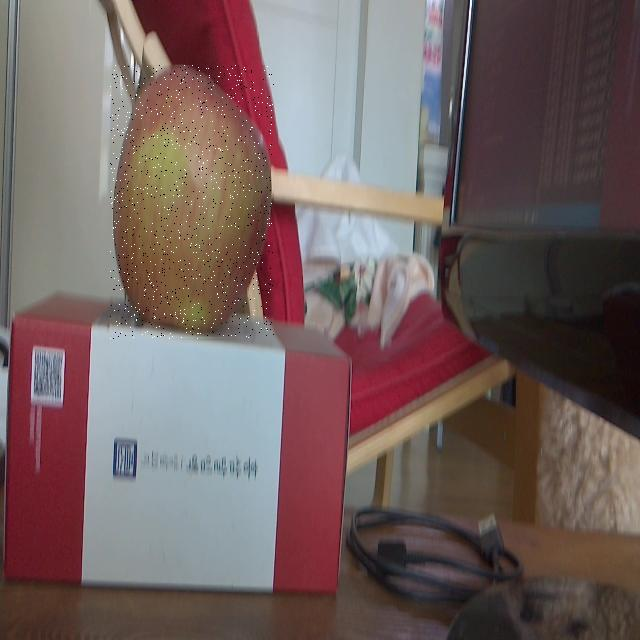apple: (110, 66, 274, 340)
